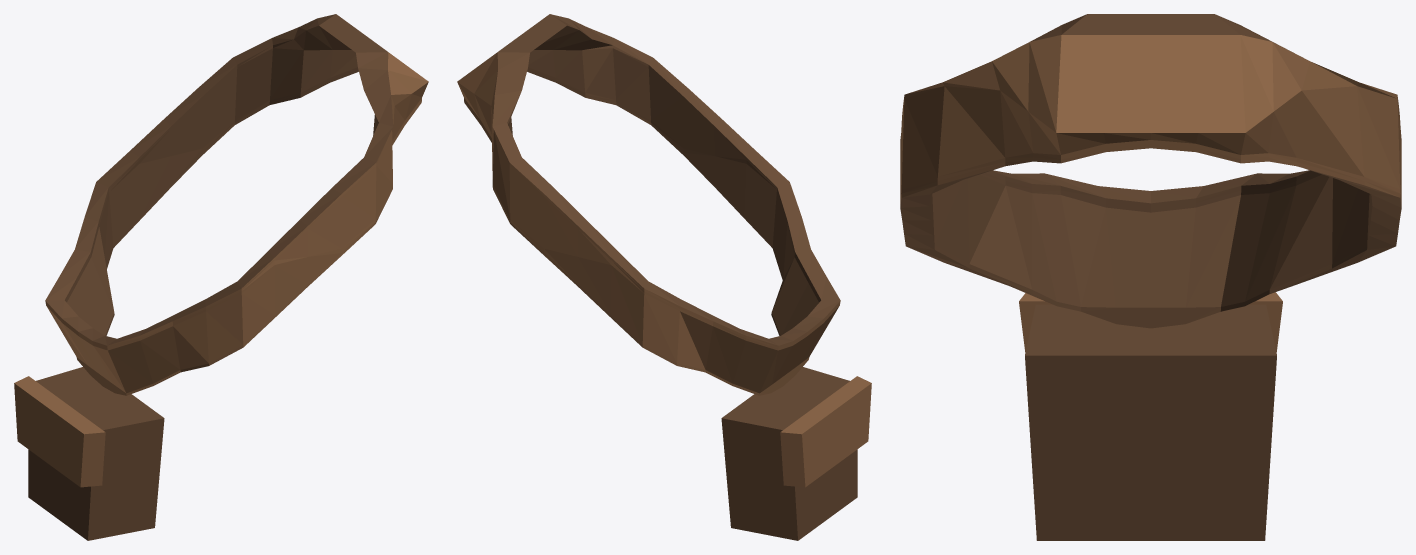
The model's file is person_male_bandolier_overvest.obj.
3 views of the same model, side by side, from view 1: azimuth 30°, elevation 25°; view 2: azimuth 150°, elevation 25°; view 3: azimuth 270°, elevation 25° (orthographic). The views are drawn at different scales.
Size of the model in its own units: 0.5816 by 0.65 by 0.4174.
